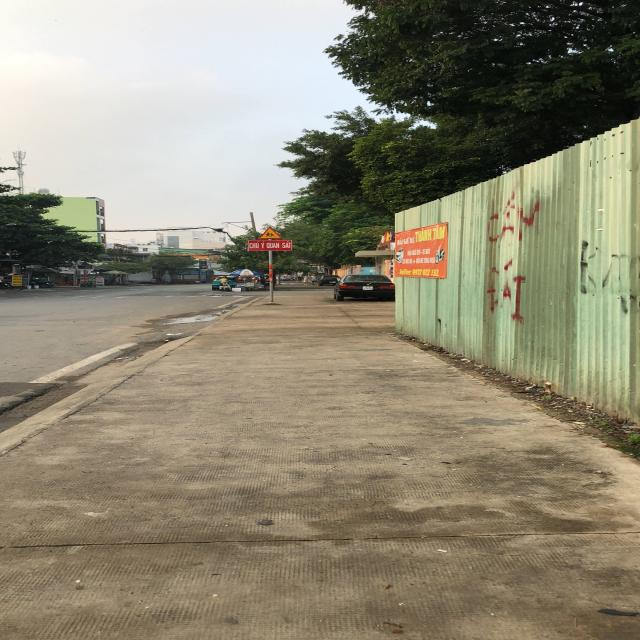Bien bao tre em: (255, 224, 284, 240)
